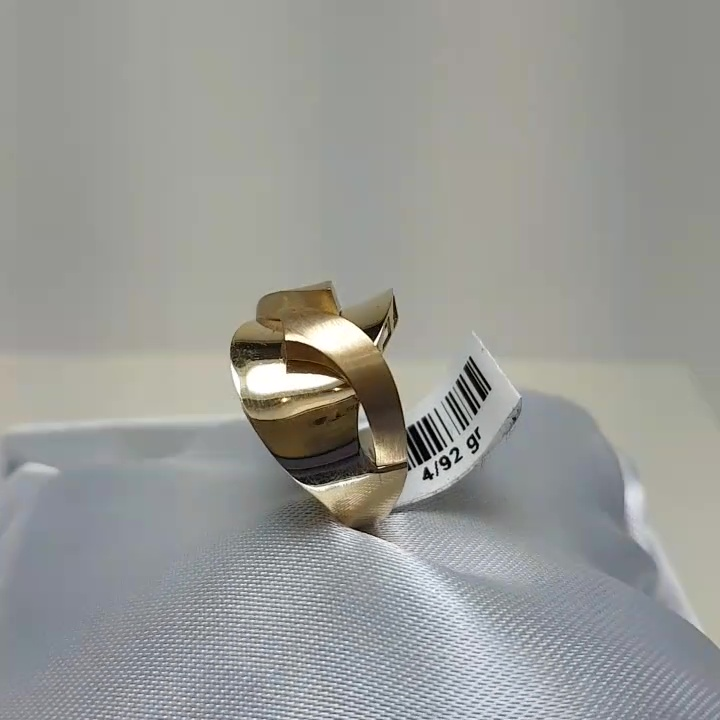Ring 4: (216, 270, 429, 526)
